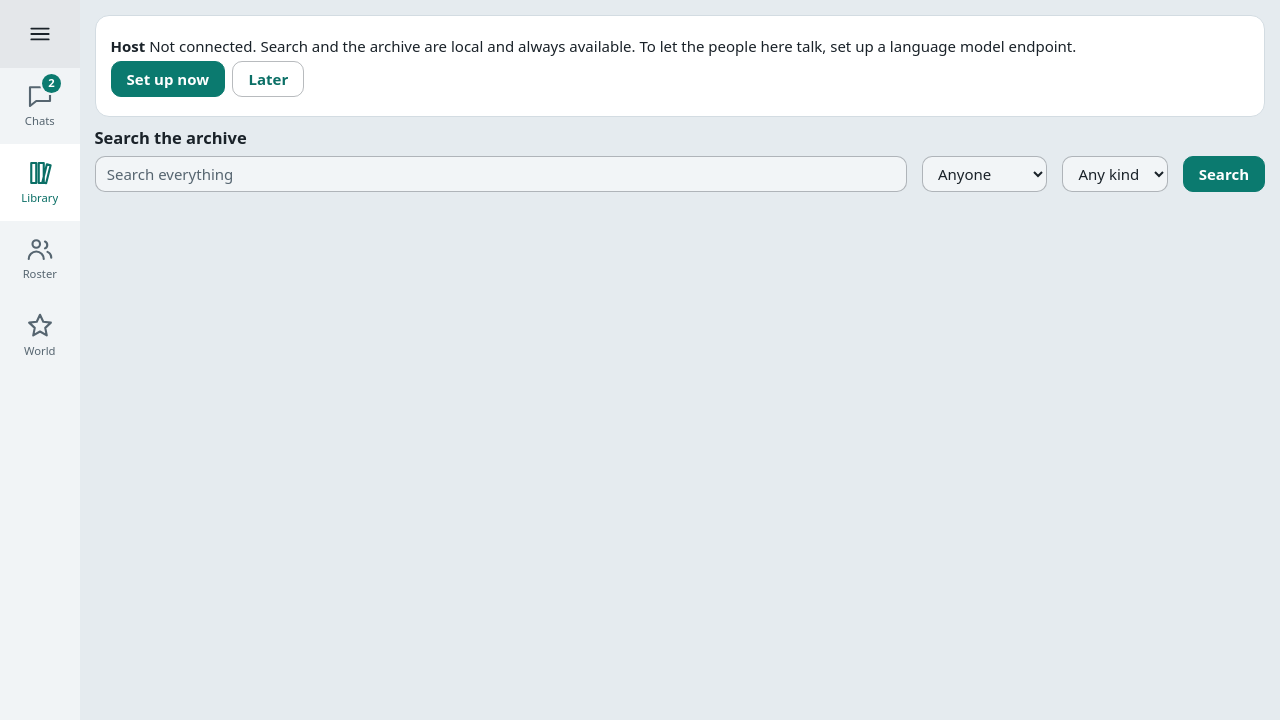
library form: not-connected notice, search, roster
Expected: the text "Not connected." is shown, [149, 36, 1076, 56]
Step 1. Type "bridge" into the search field named "Search the archive" → (501, 174), box [94, 156, 907, 192]
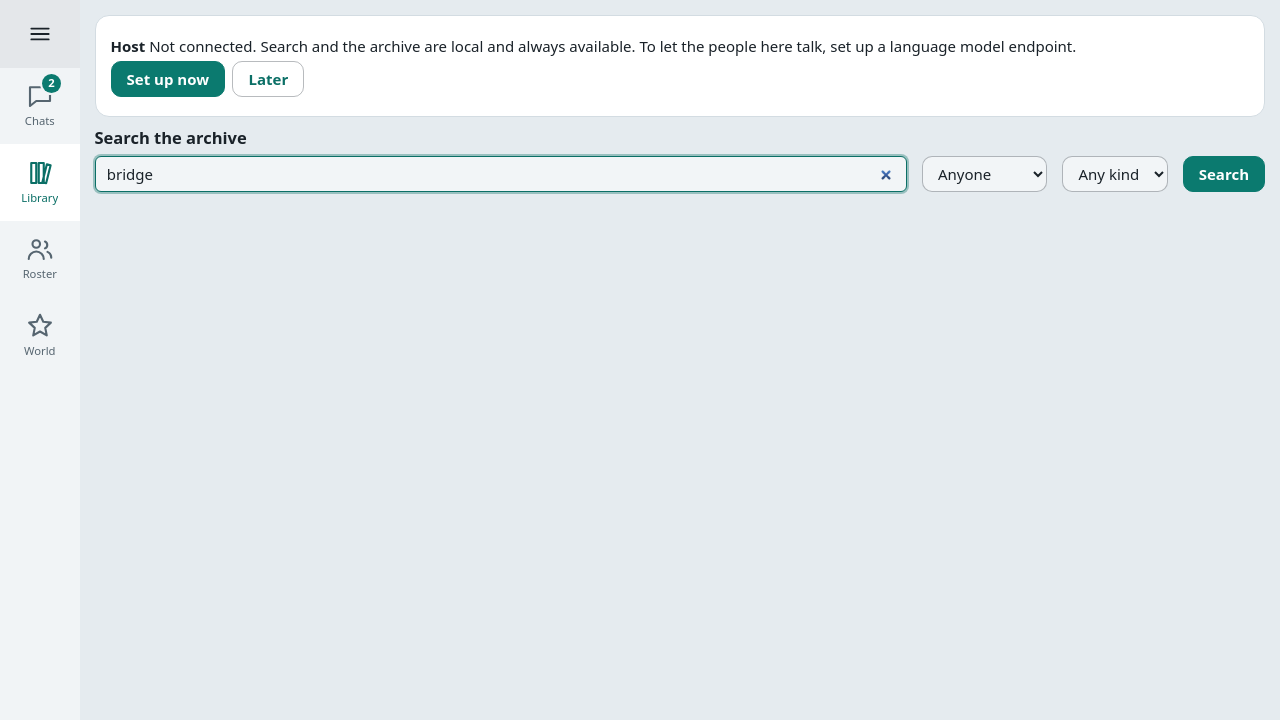
Step 2. Click the button "Search" → (1224, 174), box [1183, 156, 1265, 192]
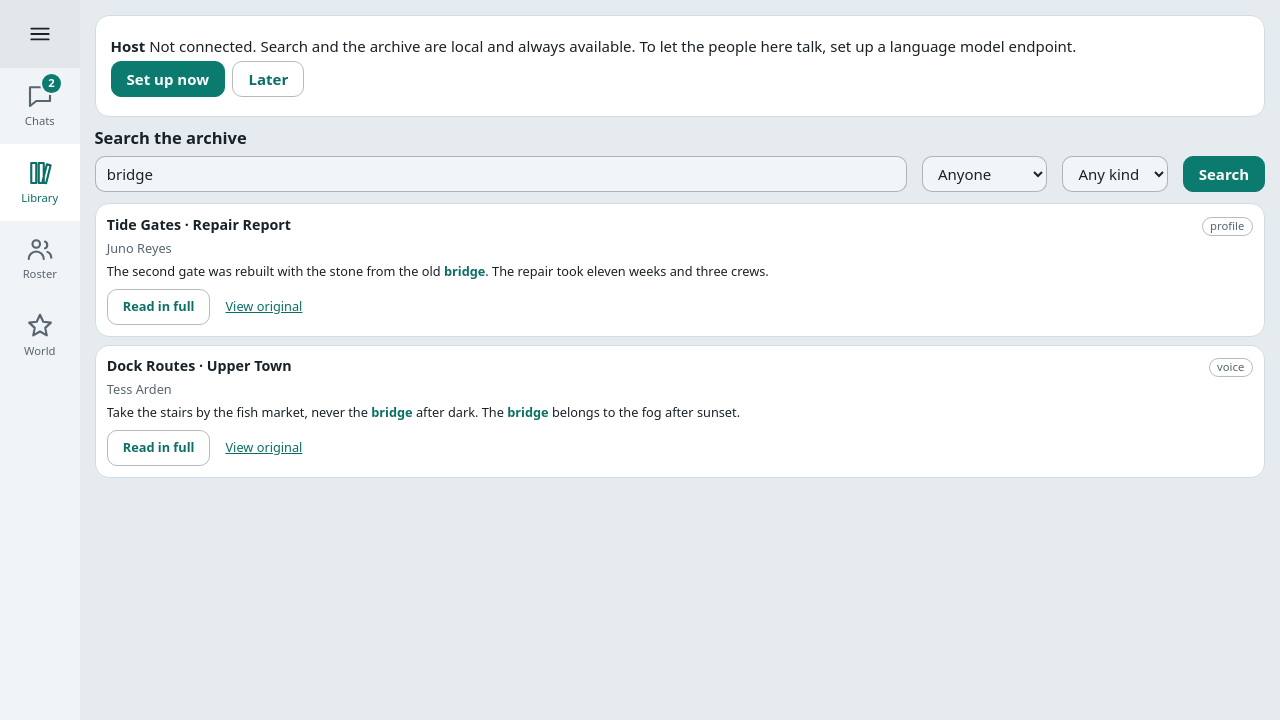
Expected: the heading "Dock Routes · Upper Town" is shown, [107, 356, 292, 375]
Step 3. Click the button "Set up now" → (168, 79), box [110, 61, 225, 97]
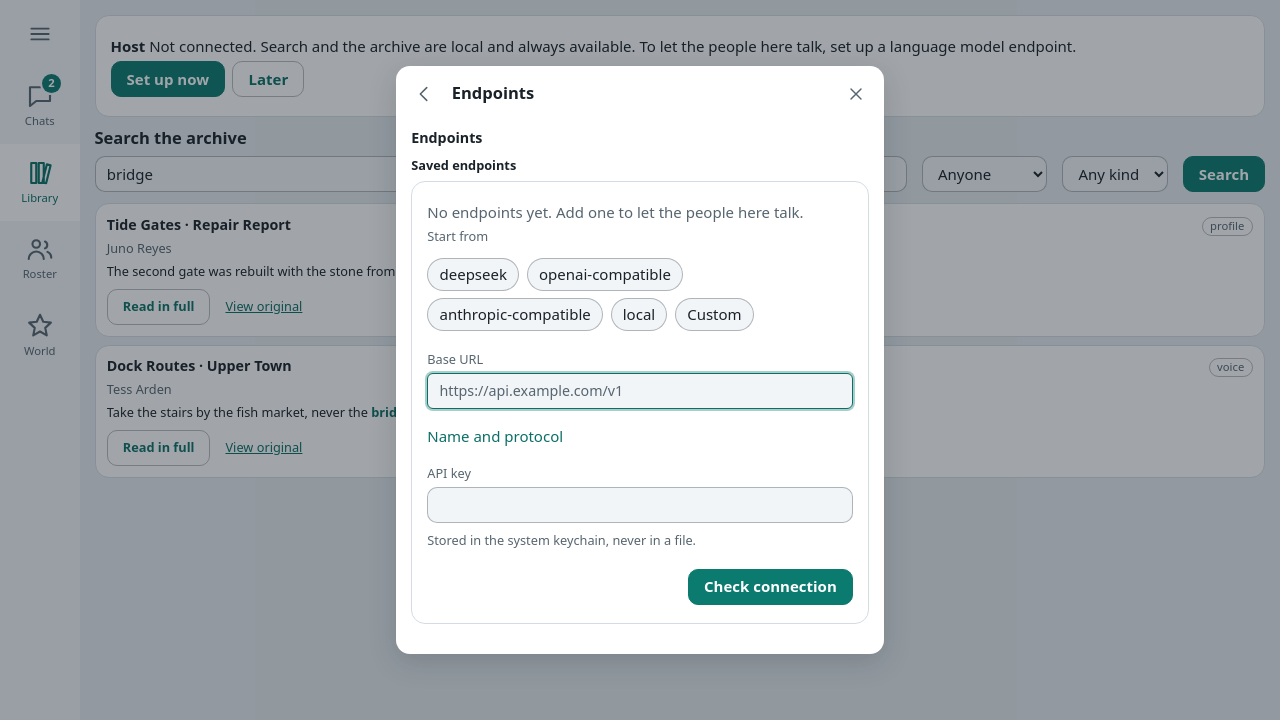
Expected: the heading "Endpoints" is shown, [411, 128, 482, 147]
